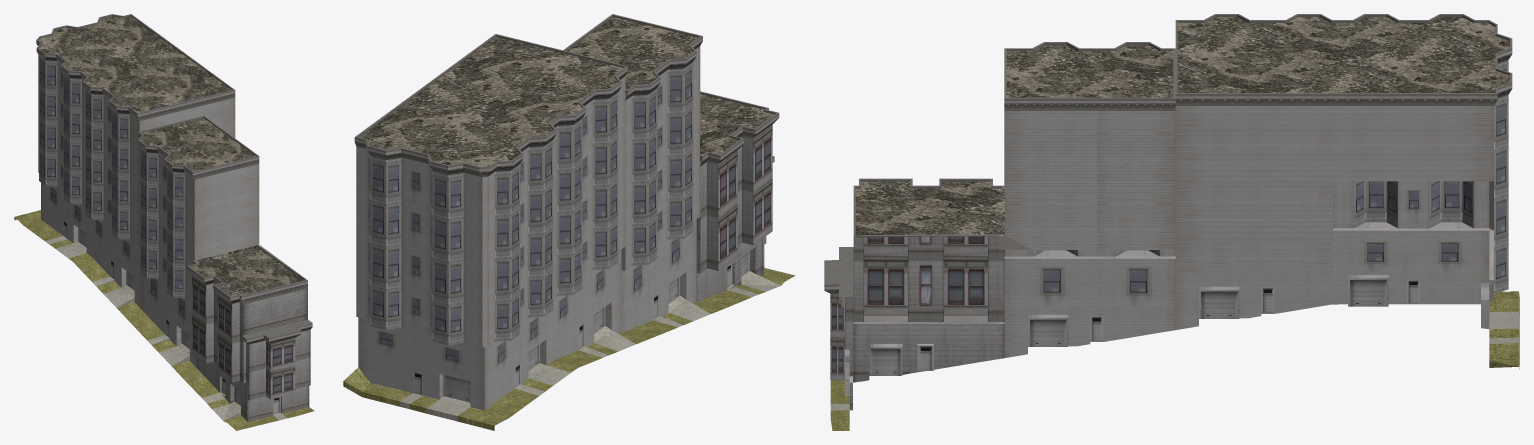
Rendered from blokcut_sfw01.obj.
3 views of the same model, side by side, from view 1: azimuth 30°, elevation 25°; view 2: azimuth 150°, elevation 25°; view 3: azimuth 270°, elevation 25° (orthographic). The views are drawn at different scales.
Parts seen in each view (by area): view 1: blokcut_sfw01; view 2: blokcut_sfw01; view 3: blokcut_sfw01.
Part boxes in pixels (x1,y1,x2,y2): blokcut_sfw01: [14, 14, 314, 430]; blokcut_sfw01: [343, 14, 795, 430]; blokcut_sfw01: [824, 14, 1519, 430].
Bounding box in the file's own units: 23.55 × 46.42 × 81.02.
Materials: 18 (18 with a texture image).
